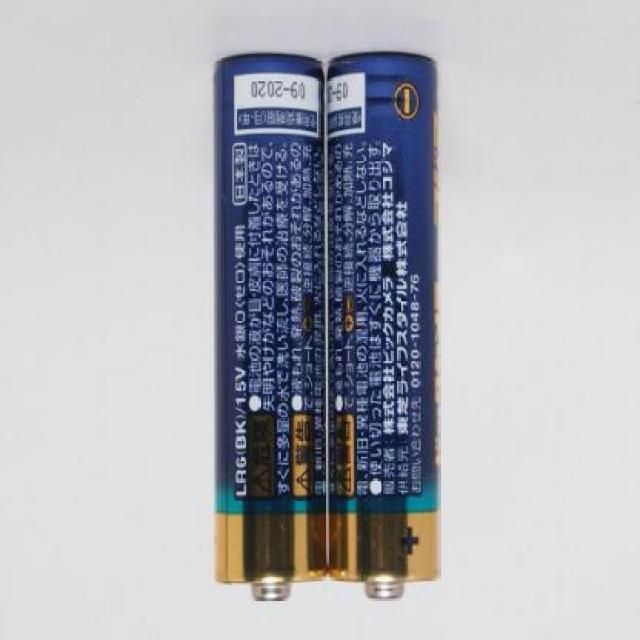hazardous waste: (206, 48, 329, 608), (326, 46, 444, 603)
